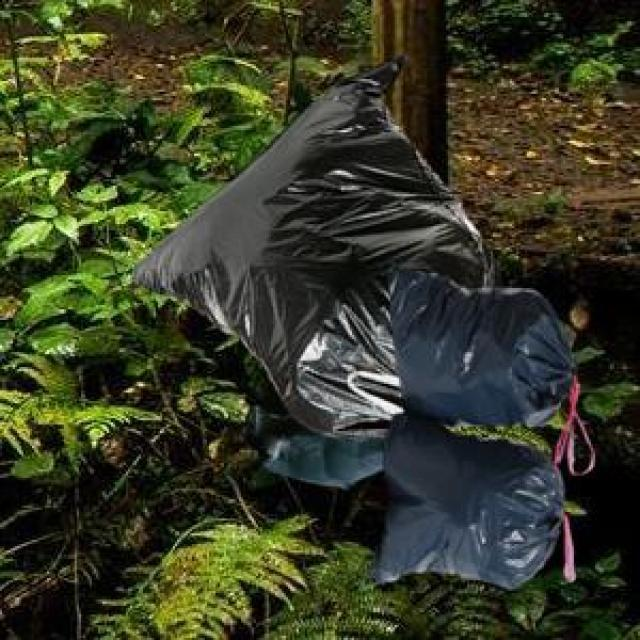Vinyl: (135, 61, 571, 588)
